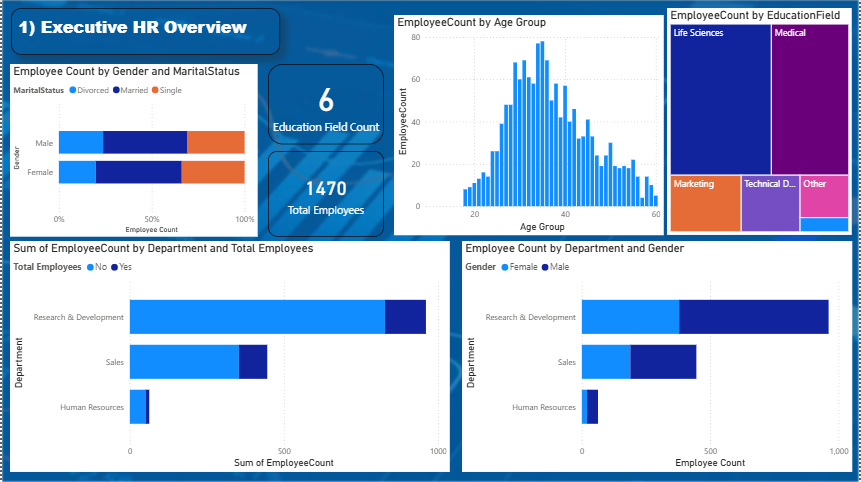

Layout of this report page (visuals, bound fields, positions):
{"tool":"powerbi","page":{"name":"Page 1","canvas":[1280,720],"ordinal":0},"visuals":[{"type":"image","box":[0,0,1280.2,720],"z":0},{"type":"barChart","fields":{"Category":["WA_Fn-UseC_-HR-Employee-Attrition.Department"],"Y":["Sum(WA_Fn-UseC_-HR-Employee-Attrition.EmployeeCount)"],"Series":["WA_Fn-UseC_-HR-Employee-Attrition.Attrition"]},"box":[12,360,657.3,345.1],"z":1000},{"type":"barChart","fields":{"Category":["WA_Fn-UseC_-HR-Employee-Attrition.Department"],"Y":["CountNonNull(WA_Fn-UseC_-HR-Employee-Attrition.EmployeeCount)"],"Series":["WA_Fn-UseC_-HR-Employee-Attrition.Gender"]},"box":[687.1,360,582.6,345.1],"z":2000},{"type":"treemap","fields":{"Group":["WA_Fn-UseC_-HR-Employee-Attrition.EducationField"],"Values":["CountNonNull(WA_Fn-UseC_-HR-Employee-Attrition.EmployeeCount)"]},"box":[1014.3,0,265.9,339.1],"z":3000},{"type":"clusteredColumnChart","fields":{"Category":["WA_Fn-UseC_-HR-Employee-Attrition.Age"],"Y":["CountNonNull(WA_Fn-UseC_-HR-Employee-Attrition.EmployeeCount)"]},"box":[590,14.9,403.3,328.6],"z":4000},{"type":"textbox","box":[13.4,12,401.8,70.2],"z":5000},{"type":"hundredPercentStackedBarChart","fields":{"Category":["WA_Fn-UseC_-HR-Employee-Attrition.Gender"],"Series":["WA_Fn-UseC_-HR-Employee-Attrition.MaritalStatus"],"Y":["Sum(WA_Fn-UseC_-HR-Employee-Attrition.EmployeeCount)"]},"box":[12,95.6,370.5,258.4],"z":6000},{"type":"card","fields":{"Values":["Count(WA_Fn-UseC_-HR-Employee-Attrition.EducationField)"]},"box":[397.3,95.6,173.3,124],"z":7000},{"type":"card","fields":{"Values":["CountNonNull(WA_Fn-UseC_-HR-Employee-Attrition.Attrition)"]},"box":[397.3,228.5,173.3,115],"z":7001}]}

Visuals, with their boxes in screenshot pixels (x1, y1, x2, y2), scaled from the page's 1280x720 canvas onto the 861x482 screenshot:
image: [0, 0, 860, 481]
barChart - WA_Fn-UseC_-HR-Employee-Attrition.Department x Sum(WA_Fn-UseC_-HR-Employee-Attrition.EmployeeCount): [8, 241, 450, 472]
barChart - WA_Fn-UseC_-HR-Employee-Attrition.Department x CountNonNull(WA_Fn-UseC_-HR-Employee-Attrition.EmployeeCount): [462, 241, 854, 472]
treemap - WA_Fn-UseC_-HR-Employee-Attrition.EducationField x CountNonNull(WA_Fn-UseC_-HR-Employee-Attrition.EmployeeCount): [682, 0, 860, 227]
clusteredColumnChart - WA_Fn-UseC_-HR-Employee-Attrition.Age x CountNonNull(WA_Fn-UseC_-HR-Employee-Attrition.EmployeeCount): [397, 10, 668, 230]
textbox: [9, 8, 279, 55]
hundredPercentStackedBarChart - WA_Fn-UseC_-HR-Employee-Attrition.Gender x WA_Fn-UseC_-HR-Employee-Attrition.MaritalStatus: [8, 64, 257, 237]
card - Count(WA_Fn-UseC_-HR-Employee-Attrition.EducationField): [267, 64, 384, 147]
card - CountNonNull(WA_Fn-UseC_-HR-Employee-Attrition.Attrition): [267, 153, 384, 230]
